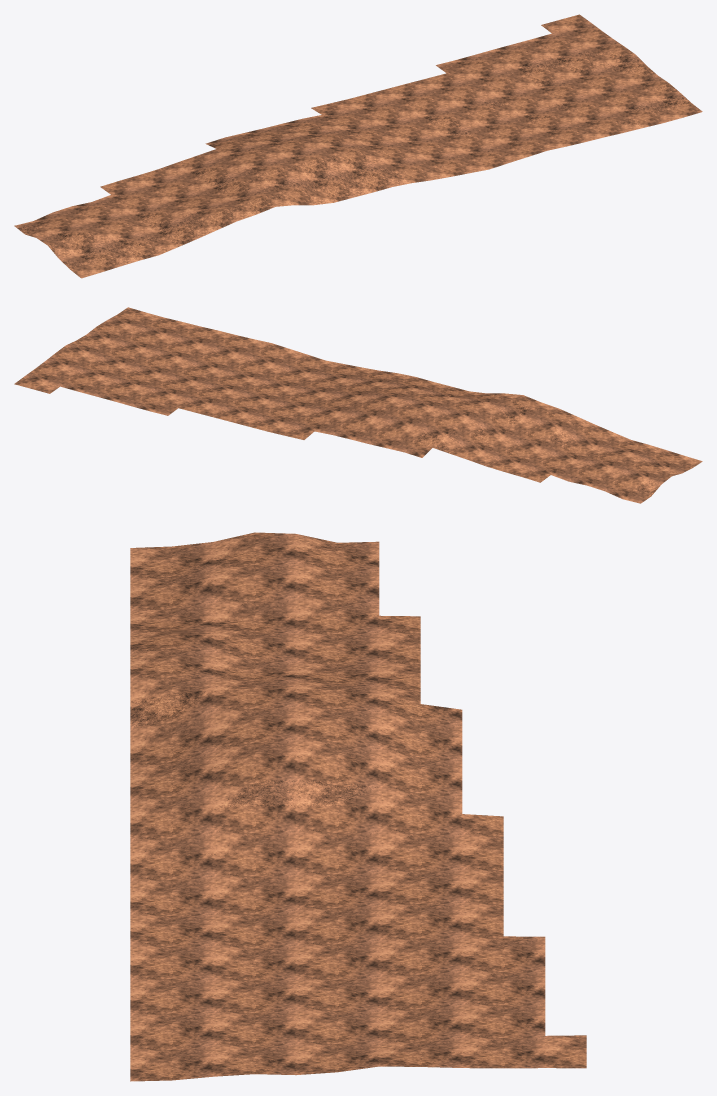
The model's file is terrain_11_09.dae.
3 renders of one model, top to bottom at view 1: azimuth 30°, elevation 25°; view 2: azimuth 150°, elevation 25°; view 3: azimuth 270°, elevation 25°, orthographic. The views are drawn at different scales.
Parts seen in each view (by area): view 1: terrain_11_09-node; view 2: terrain_11_09-node; view 3: terrain_11_09-node.
Boxes of the visible parts, x1=… form: terrain_11_09-node: x1=14, y1=14, x2=702, y2=278; terrain_11_09-node: x1=14, y1=307, x2=702, y2=503; terrain_11_09-node: x1=130, y1=532, x2=586, y2=1081.
Bounding box in the file's own units: 128 × 44 × 5.91.
1 material, 1 textured.
